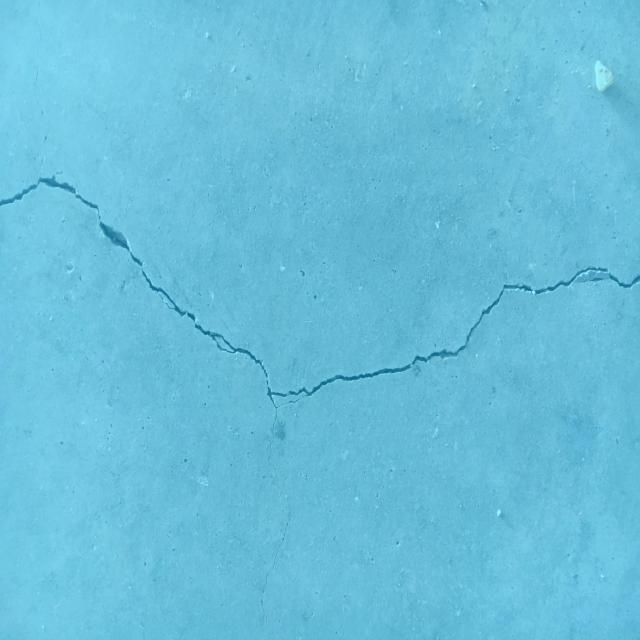crack: (0, 174, 640, 486), (260, 508, 291, 640)
